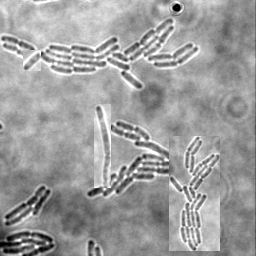Dividing: (94, 104, 111, 188), (1, 34, 37, 52), (3, 41, 33, 57)
Microcolony: (40, 18, 199, 89), (87, 120, 181, 197), (169, 136, 220, 251), (5, 184, 52, 226), (1, 230, 56, 255)
Rod: (23, 50, 41, 71)
